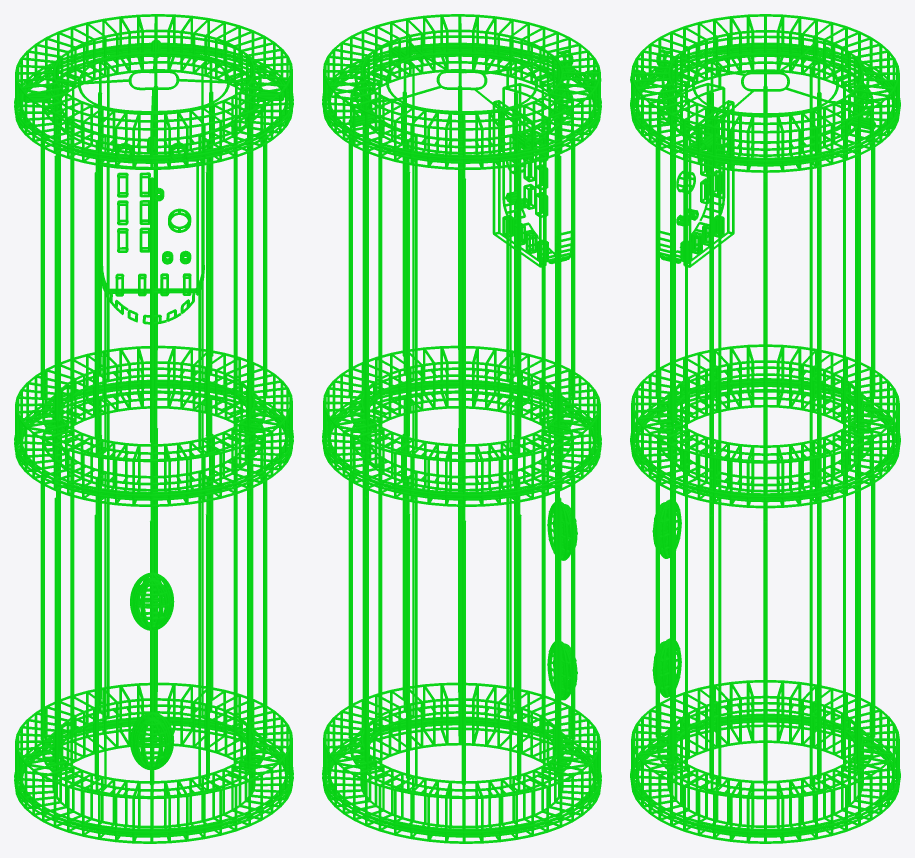
File: power-amplifier-wireframe.glb
The picture shows the model from 3 angles, left to right: view 1: azimuth 30°, elevation 25°; view 2: azimuth 150°, elevation 25°; view 3: azimuth 270°, elevation 25°; orthographic projection.
Visible parts, largest first — view 1: chassis technical wire, distorted-reflector technical wire, optical-coupling-ports technical wire, ethereal-vapour-generator technical wire; view 2: chassis technical wire, distorted-reflector technical wire, ethereal-vapour-generator technical wire, optical-coupling-ports technical wire; view 3: chassis technical wire, distorted-reflector technical wire, ethereal-vapour-generator technical wire, optical-coupling-ports technical wire.
Boxes of the visible parts, bbox=[...] form: chassis technical wire: bbox=[14, 14, 293, 843]; distorted-reflector technical wire: bbox=[46, 35, 261, 141]; optical-coupling-ports technical wire: bbox=[130, 572, 174, 770]; ethereal-vapour-generator technical wire: bbox=[115, 142, 191, 296]; chassis technical wire: bbox=[322, 14, 601, 843]; distorted-reflector technical wire: bbox=[354, 35, 569, 141]; ethereal-vapour-generator technical wire: bbox=[502, 49, 601, 261]; optical-coupling-ports technical wire: bbox=[547, 502, 577, 700]; chassis technical wire: bbox=[630, 14, 900, 843]; distorted-reflector technical wire: bbox=[661, 35, 869, 143]; ethereal-vapour-generator technical wire: bbox=[630, 49, 724, 261]; optical-coupling-ports technical wire: bbox=[652, 499, 681, 697].
Size of the model in its own units: 0.9734 by 2.72 by 0.936.
